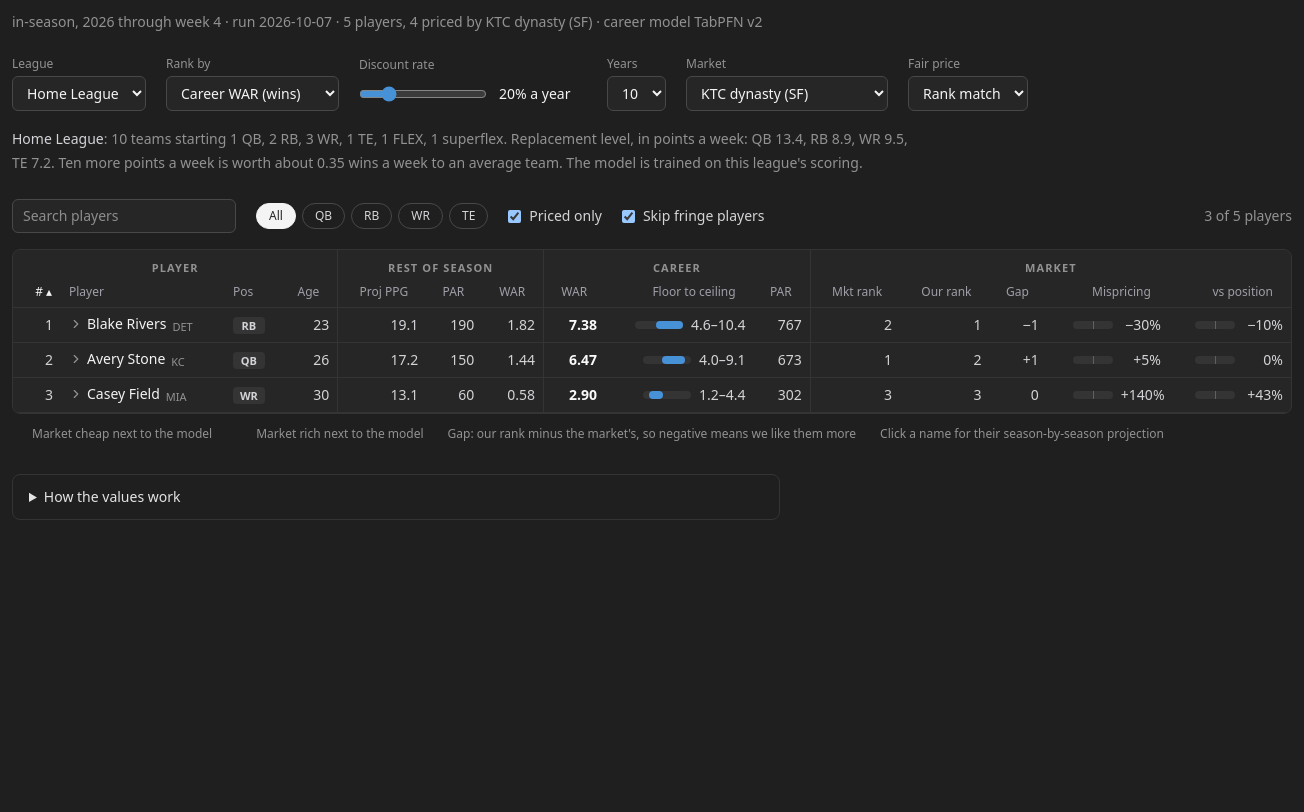
Test: Player values › leaves out games so far before the season starts
The width and height of the screenshot is (1304, 812).
Click the button "Avery Stone" at [117, 359], box [69,349,165,369]
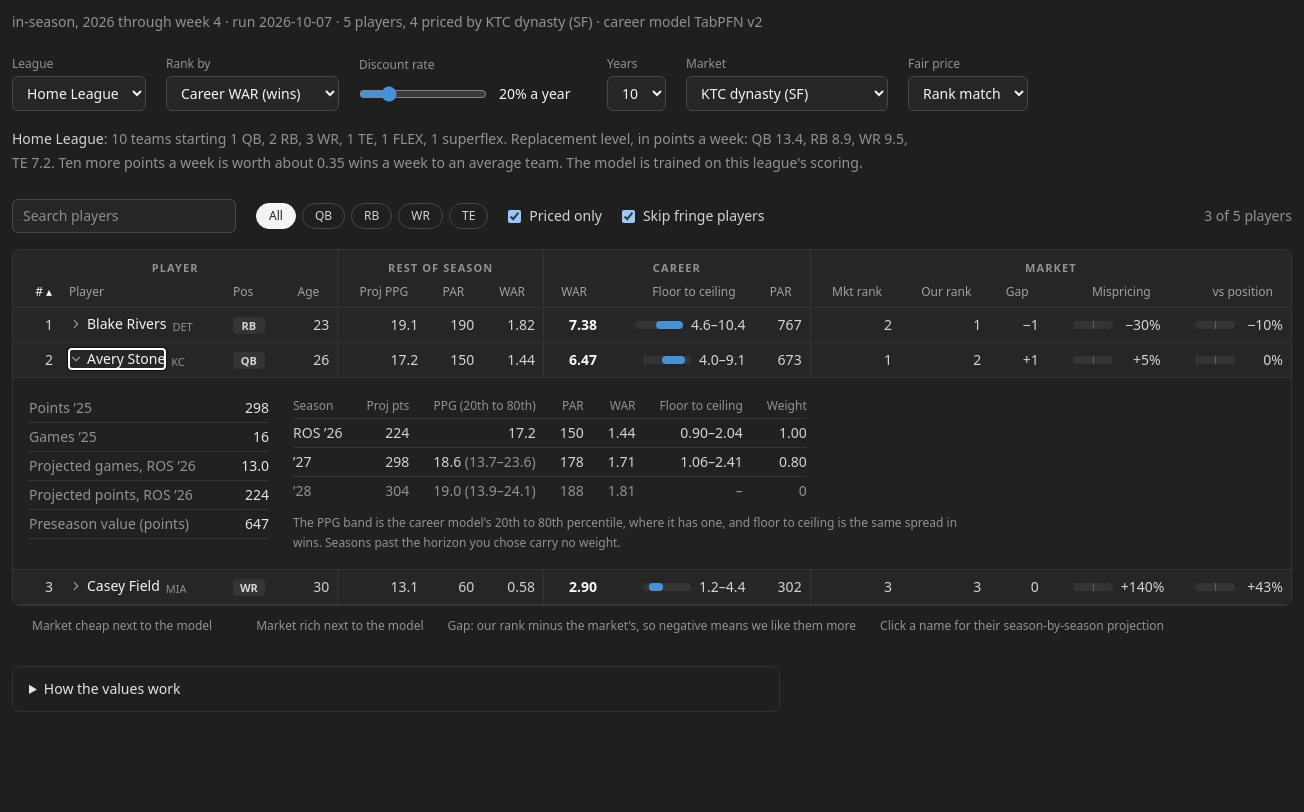
Expected: the text "Preseason value (points)" is shown, [29,514,189,534]
